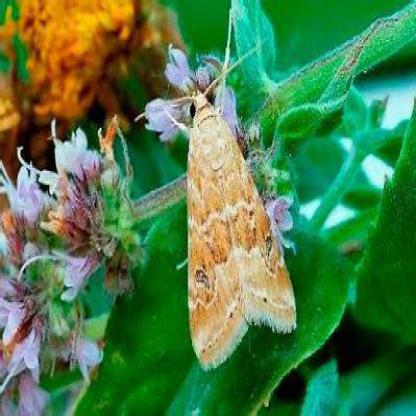Hellula undalis: (131, 33, 298, 382)
